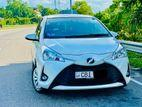car: (24, 15, 132, 93)
